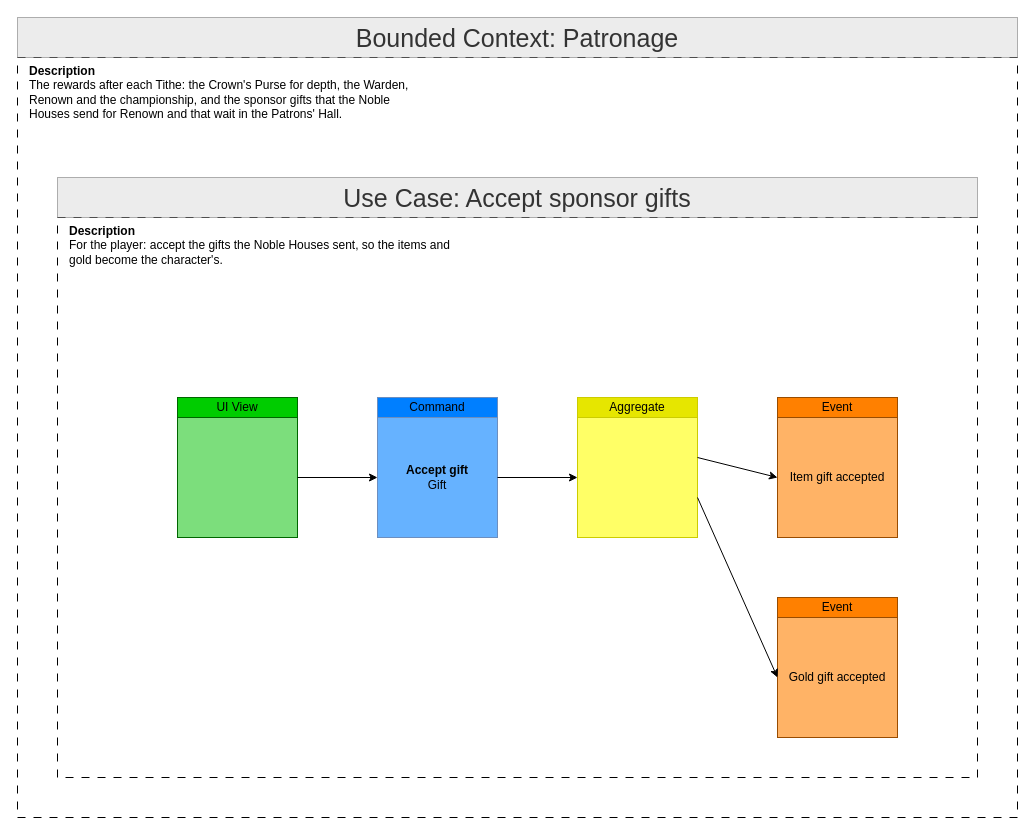
Image size: 1035x835. Some labels were removed from this diagram. Each missing label, with the box of its shape:
Patrons' Hall Player: (176, 416, 298, 538)
Sponsor gift Accepted: (576, 416, 698, 538)
